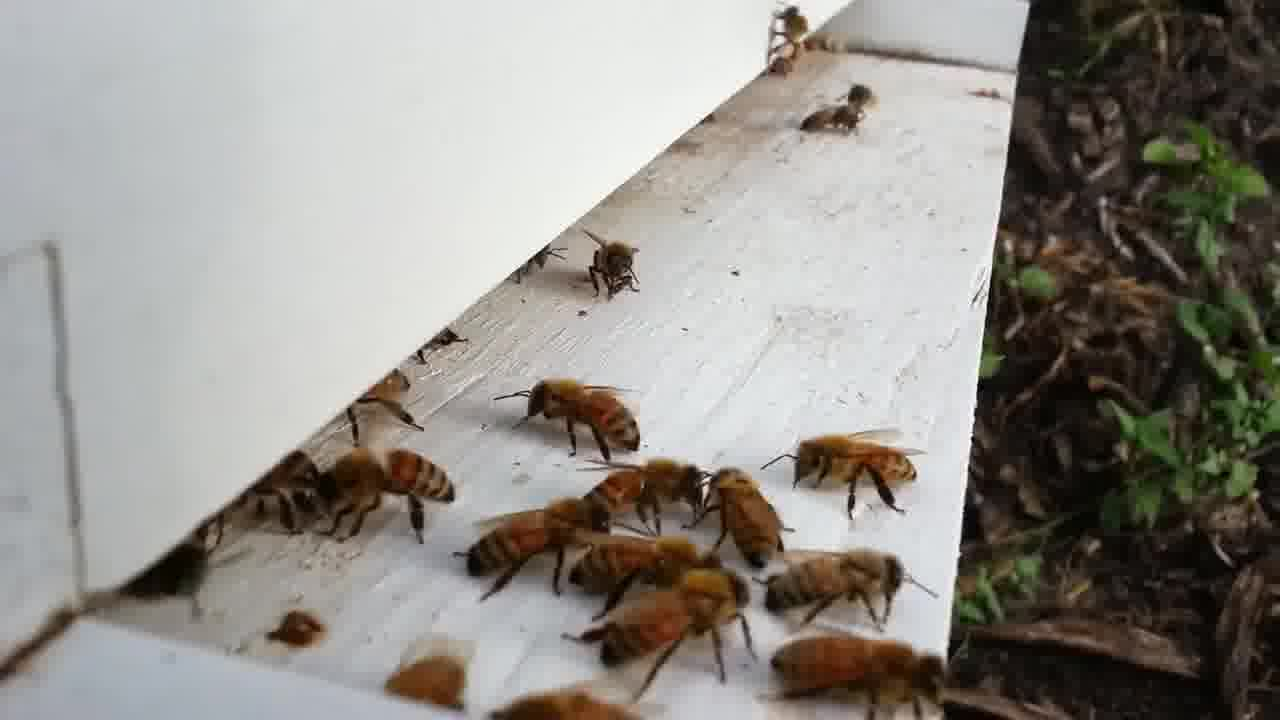pollen: (766, 6, 809, 80)
